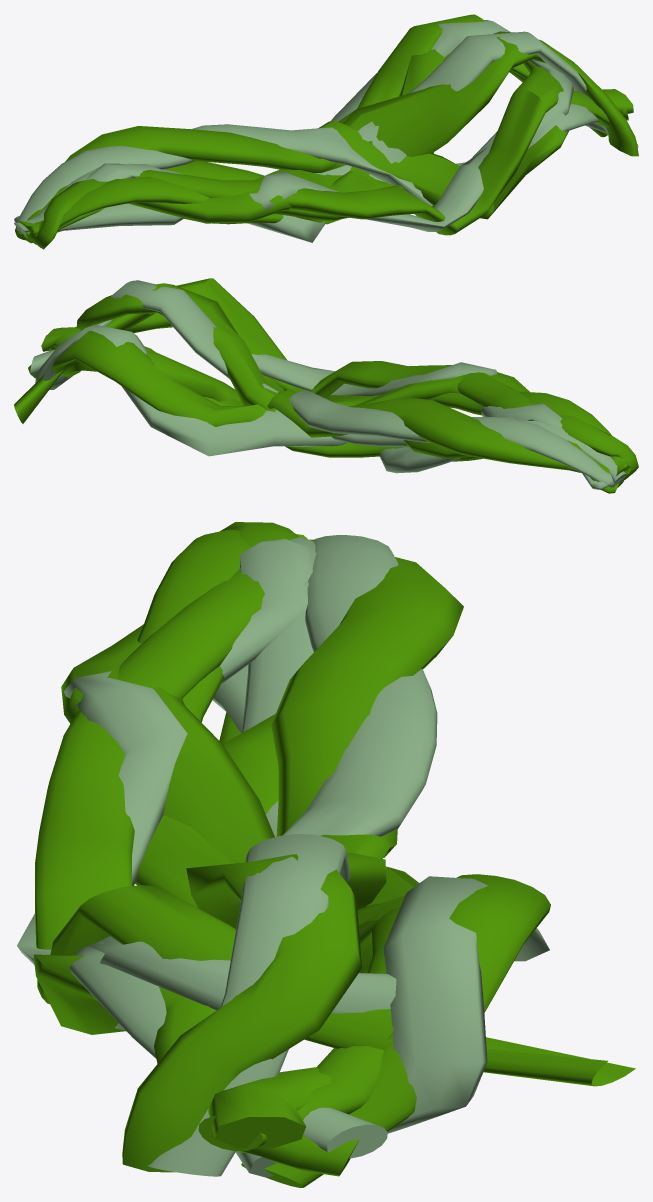
Rendered from Ranken_7.fbx.
The picture shows the model from 3 angles, top to bottom: view 1: azimuth 30°, elevation 25°; view 2: azimuth 150°, elevation 25°; view 3: azimuth 270°, elevation 25°; orthographic projection. The views are drawn at different scales.
Visible parts, largest first — view 1: Ranken_7; view 2: Ranken_7; view 3: Ranken_7.
Boxes of the visible parts, x1=… form: Ranken_7: x1=14, y1=14, x2=638, y2=249; Ranken_7: x1=14, y1=278, x2=638, y2=493; Ranken_7: x1=17, y1=522, x2=635, y2=1187.
Bounding box in the file's own units: 1125 × 247 × 518.
